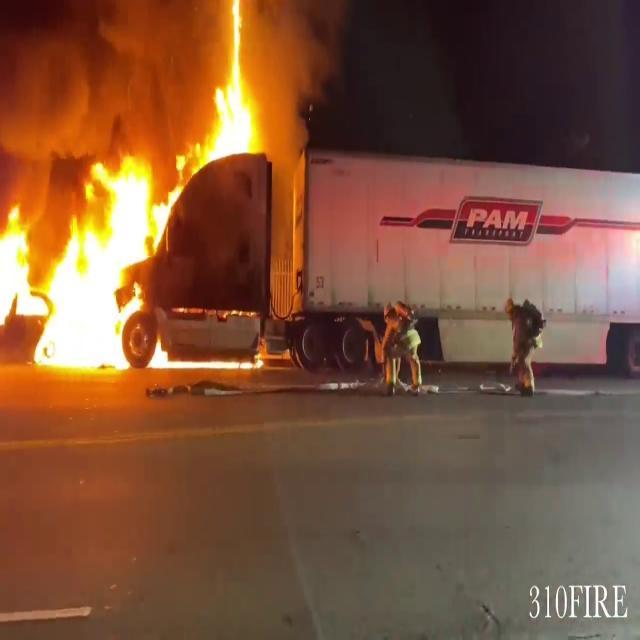Fire: (0, 143, 178, 376), (201, 1, 269, 170)
Smoke: (0, 0, 199, 192)
